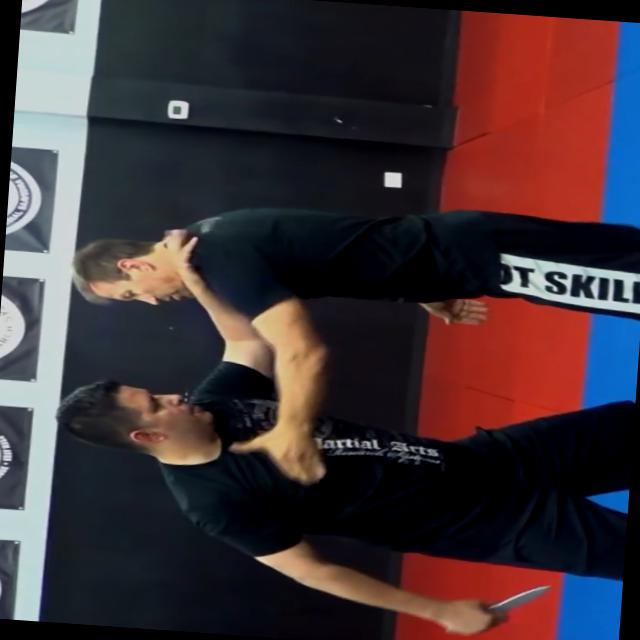knife: (436, 575, 555, 639)
